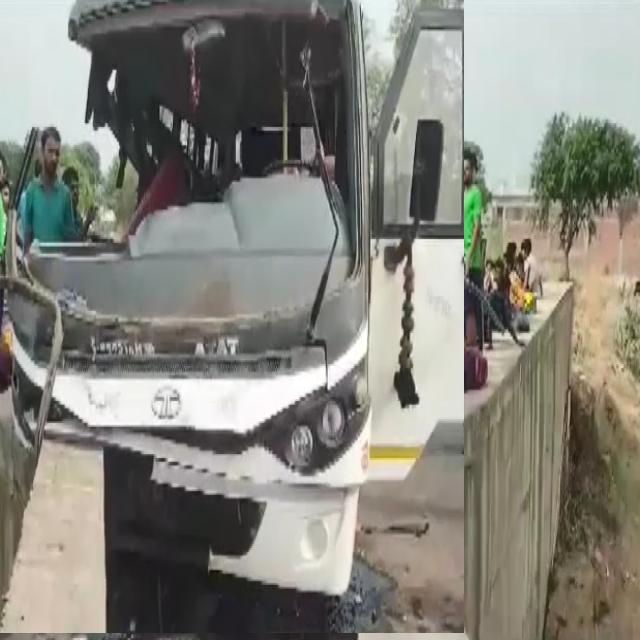accident: (0, 0, 464, 633)
